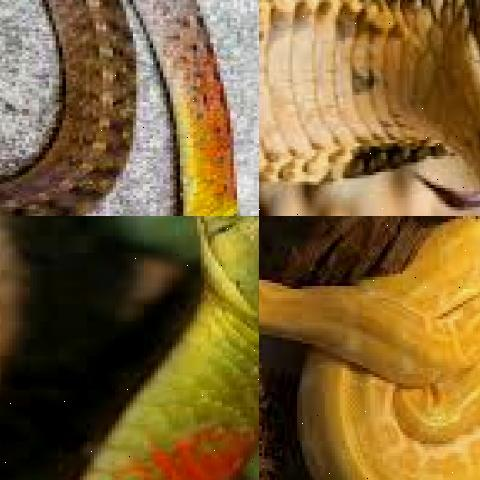snake: (0, 216, 259, 480), (259, 216, 480, 480), (0, 0, 259, 216), (259, 0, 480, 216)
